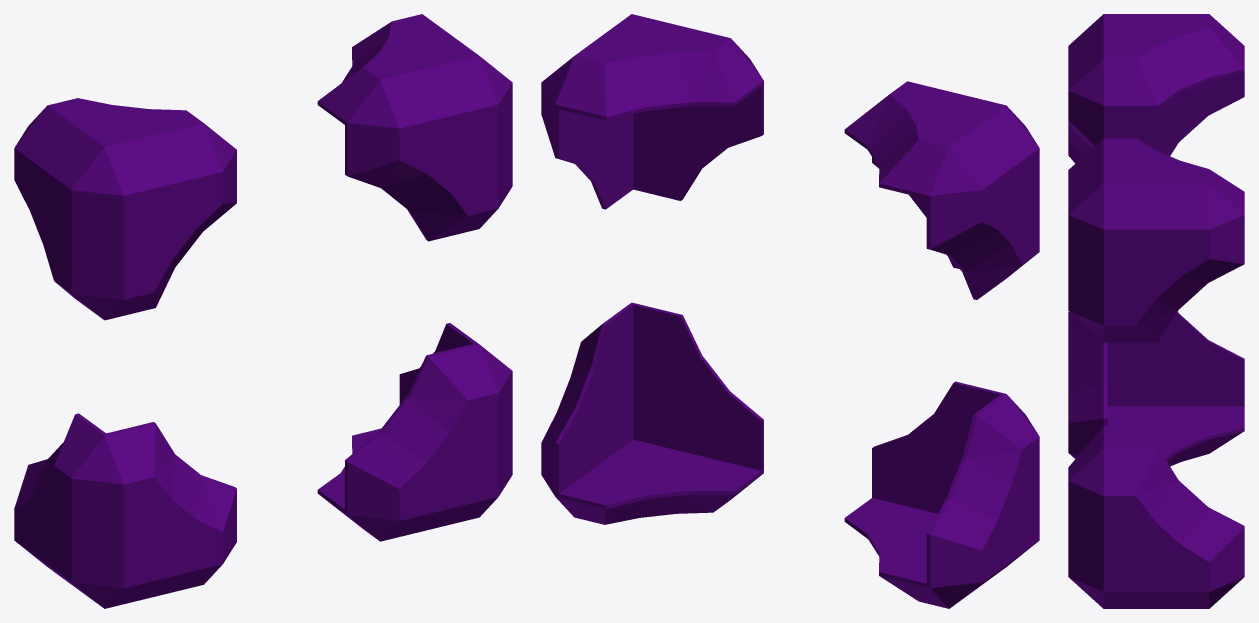
The model's file is EdgeBumperTop.obj.
3 views of the same model, side by side, from view 1: azimuth 30°, elevation 25°; view 2: azimuth 150°, elevation 25°; view 3: azimuth 270°, elevation 25° (orthographic). The views are drawn at different scales.
Visible parts, largest first — view 1: Array; view 2: Array; view 3: Array.
Part boxes in pixels (box(x1,y1,x2,y2)): Array: box(14, 14, 512, 608); Array: box(541, 14, 1039, 608); Array: box(1068, 14, 1244, 608).
Size of the model in its own units: 120 by 120 by 45.
